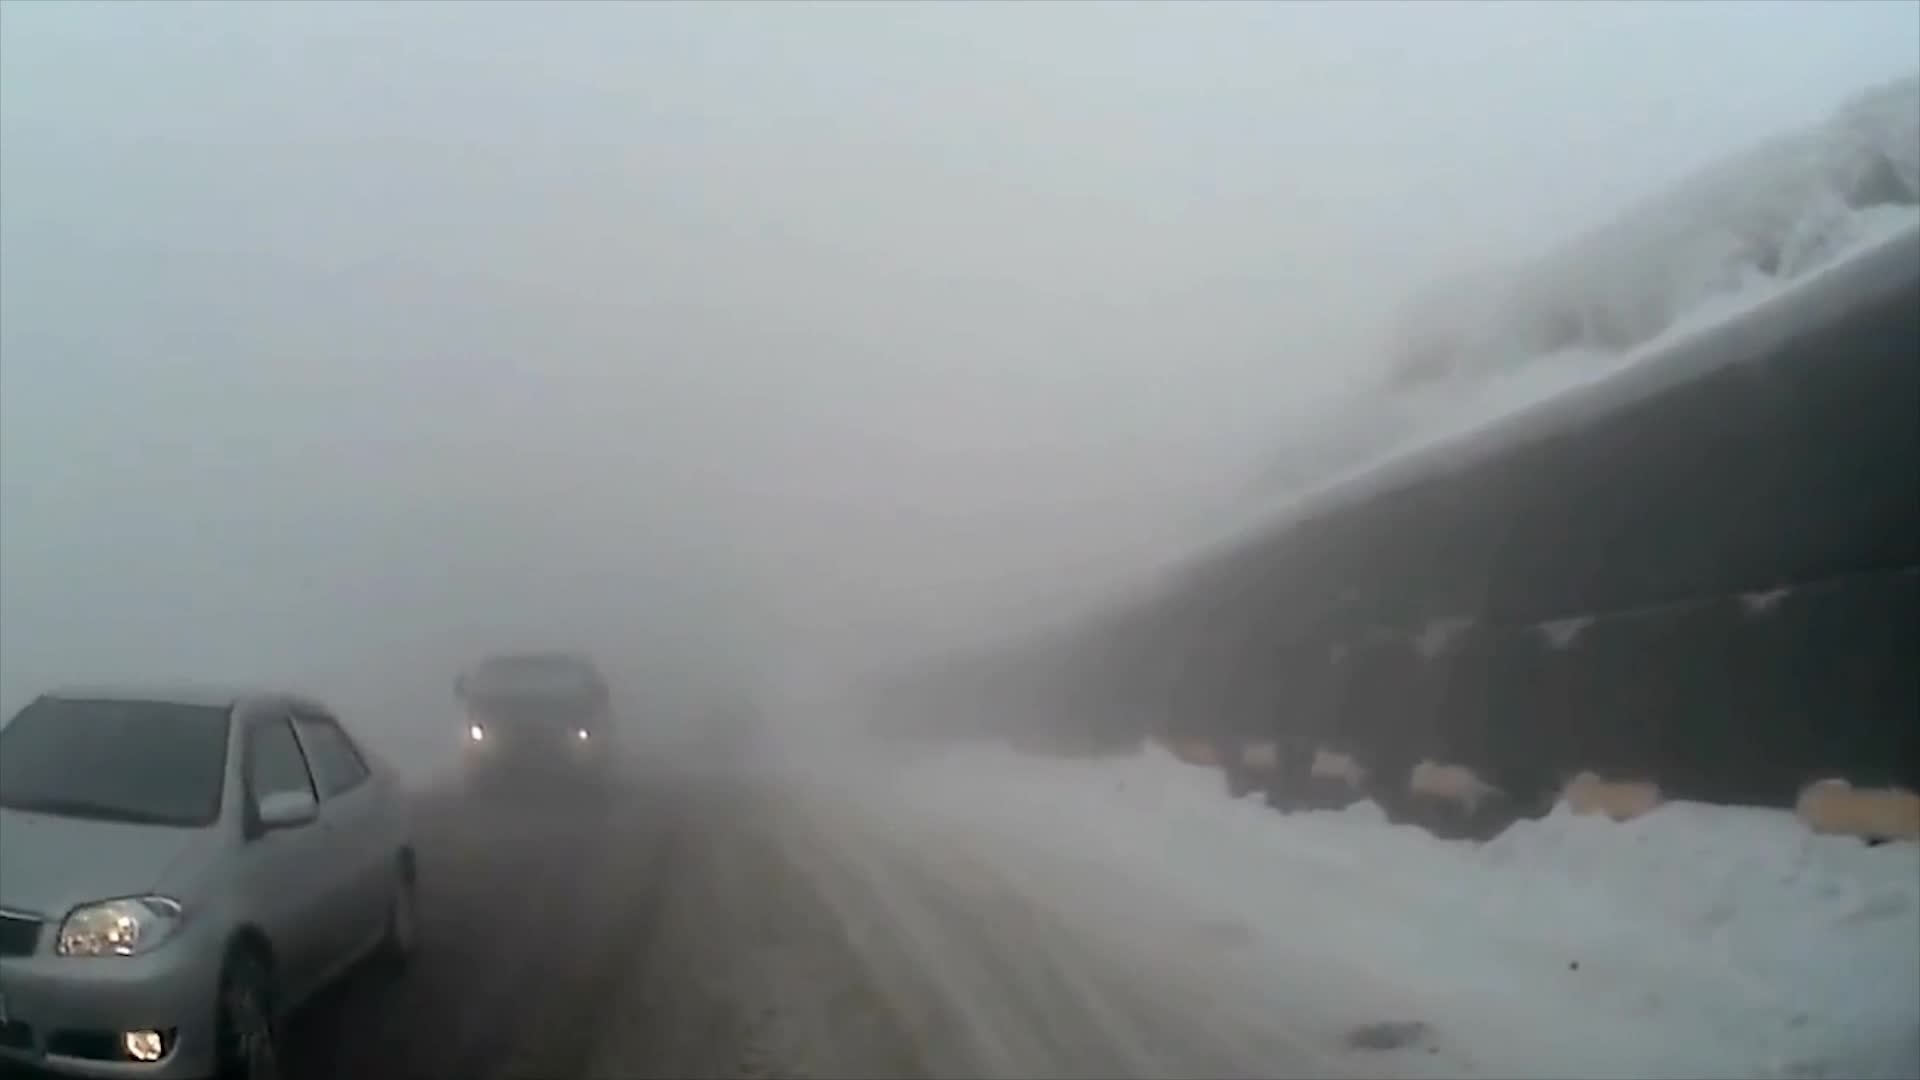vehicle: (0, 678, 426, 1080), (451, 651, 618, 796)
